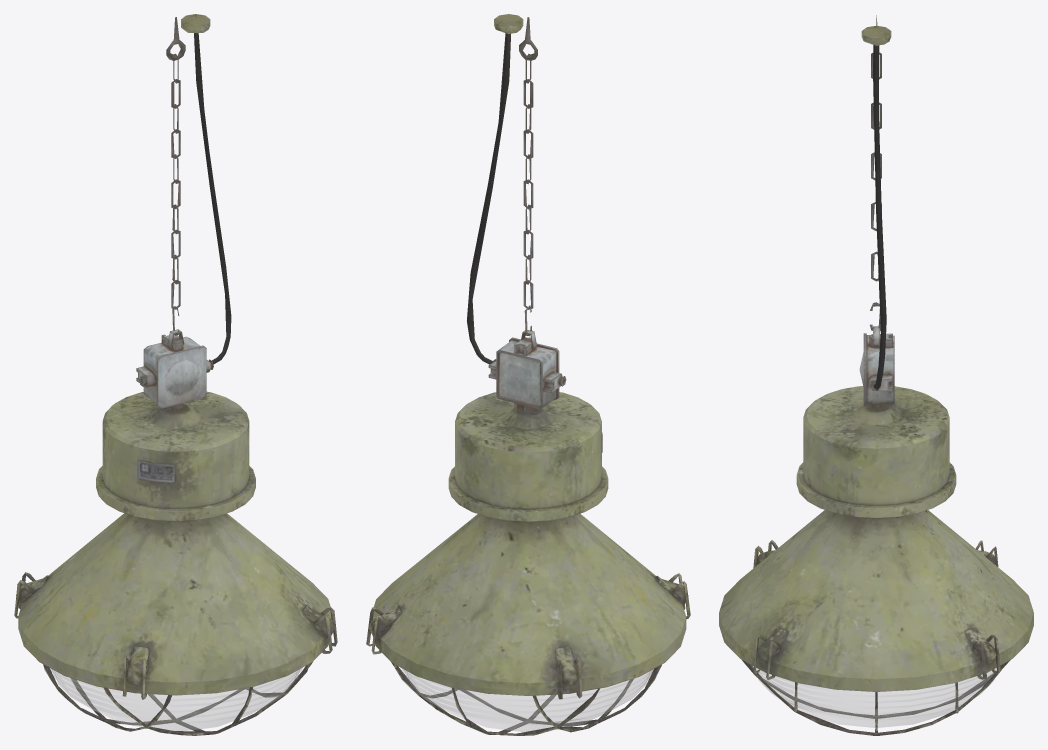
File: hanging_industrial_lamp.glb
The picture shows the model from 3 angles, left to right: view 1: azimuth 30°, elevation 25°; view 2: azimuth 150°, elevation 25°; view 3: azimuth 270°, elevation 25°; orthographic projection.
Visible parts, largest first — view 1: hanging_industrial_lamp; view 2: hanging_industrial_lamp; view 3: hanging_industrial_lamp.
Part boxes in pixels (x1,y1,x2,y2): hanging_industrial_lamp: [14, 14, 337, 735]; hanging_industrial_lamp: [366, 14, 690, 735]; hanging_industrial_lamp: [719, 15, 1033, 735].
Size of the model in its own units: 0.5497 by 1.36 by 0.5497.
2 materials, 1 textured.
